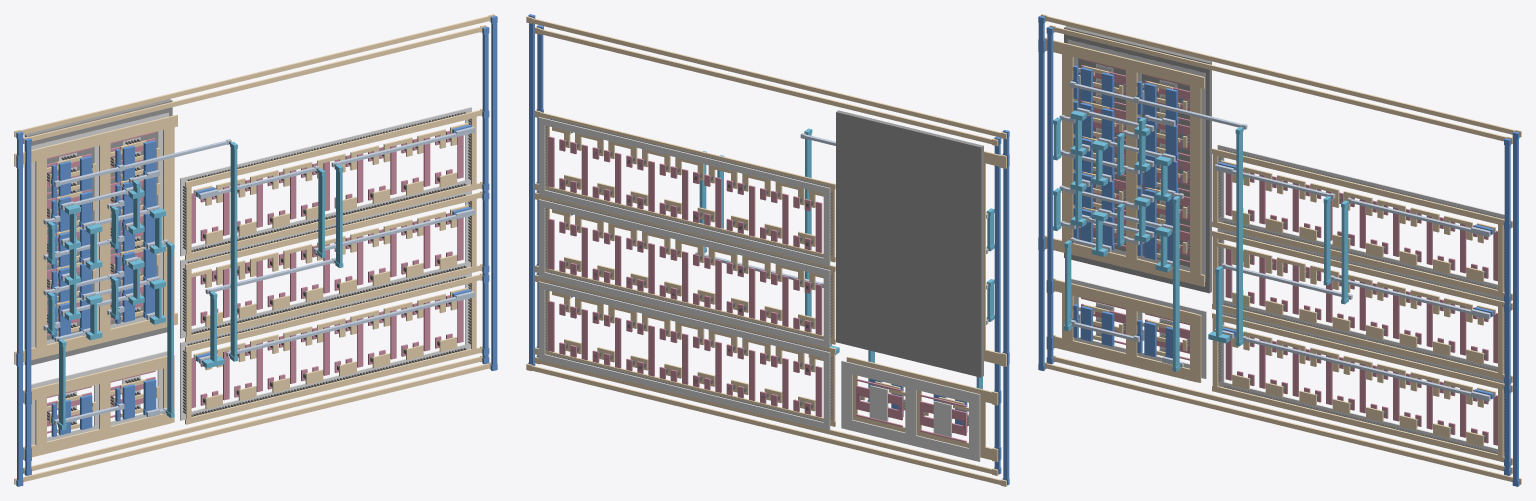
The model's file is single_stage_OTA_complete.gds.gltf.
The picture shows the model from 3 angles, left to right: view 1: azimuth 30°, elevation 25°; view 2: azimuth 150°, elevation 25°; view 3: azimuth 330°, elevation 25°; orthographic projection.
Parts seen in each view (by area): view 1: OTA_li1, LELOTR_RPPO16_li1 (×3), LELOTR_RES16_poly (×3), LELOTR_RES16_li1 (×3), OTA_met3, OTA_met1, OTA_met2, LELOATR_PCH_4C5F0_met1 (×10), LELOATR_PCH_4C5F0_li1 (×9), LELOTR_RPPO16_diff (×3), LELOTR_RPPO16_licon (×3), LELOATR_NCH_4C5F0_met1 (×2) (+6 smaller); view 2: LELOATR_PCH_4C5F0_nwell (×10), LELOTR_RES16_poly (×3), LELOTR_RPPO16_diff (×3), OTA_li1, LELOTR_RES16_li1 (×3), OTA_met1, LELOTR_RPPO16_li1 (×3), LELOATR_PCH_4CTAPTOP_nwell (×2), LELOTR_RPPO16_licon (×3), LELOATR_PCH_4CTAPBOT_nwell (×2), LELOATR_NCH_4C5F0_diff (×2), OTA_met3 (+5 smaller); view 3: OTA_li1, LELOTR_RES16_poly (×3), LELOTR_RES16_li1 (×3), OTA_met3, LELOTR_RPPO16_li1 (×3), OTA_met1, OTA_met2, LELOATR_PCH_4C5F0_li1 (×10), LELOATR_PCH_4C5F0_met1 (×10), LELOTR_RPPO16_diff (×3), LELOTR_RPPO16_licon (×3), LELOATR_NCH_4CTAPBOT_li1 (×2) (+8 smaller).
Part boxes in pixels (x1=…): OTA_li1: x1=14, y1=14, x2=494, y2=484; LELOTR_RPPO16_li1 (×3): x1=186, y1=112, x2=476, y2=423; LELOTR_RES16_poly (×3): x1=191, y1=130, x2=463, y2=407; LELOTR_RES16_li1 (×3): x1=195, y1=125, x2=467, y2=409; OTA_met3: x1=47, y1=142, x2=343, y2=430; OTA_met1: x1=16, y1=15, x2=497, y2=486; OTA_met2: x1=43, y1=127, x2=474, y2=425; LELOATR_PCH_4C5F0_met1 (×10): x1=51, y1=140, x2=156, y2=339; LELOATR_PCH_4C5F0_li1 (×9): x1=35, y1=132, x2=174, y2=344; LELOTR_RPPO16_diff (×3): x1=180, y1=107, x2=471, y2=420; LELOTR_RPPO16_licon (×3): x1=183, y1=112, x2=470, y2=416; LELOATR_NCH_4C5F0_met1 (×2): x1=51, y1=379, x2=156, y2=436; LELOATR_PCH_4C5F0_nwell (×10): x1=836, y1=133, x2=983, y2=355; LELOTR_RES16_poly (×3): x1=548, y1=136, x2=822, y2=417; LELOTR_RPPO16_diff (×3): x1=538, y1=117, x2=830, y2=430; OTA_li1: x1=526, y1=16, x2=1006, y2=486; LELOTR_RES16_li1 (×3): x1=552, y1=127, x2=822, y2=411; OTA_met1: x1=528, y1=14, x2=1009, y2=485; LELOTR_RPPO16_li1 (×3): x1=544, y1=115, x2=835, y2=425; LELOATR_PCH_4CTAPTOP_nwell (×2): x1=836, y1=110, x2=983, y2=179; LELOTR_RPPO16_licon (×3): x1=545, y1=118, x2=832, y2=421; LELOATR_PCH_4CTAPBOT_nwell (×2): x1=836, y1=321, x2=983, y2=377; LELOATR_NCH_4C5F0_diff (×2): x1=841, y1=375, x2=980, y2=447; OTA_met3: x1=699, y1=128, x2=994, y2=401; OTA_li1: x1=1041, y1=14, x2=1521, y2=484; LELOTR_RES16_poly (×3): x1=1225, y1=169, x2=1497, y2=445; LELOTR_RES16_li1 (×3): x1=1227, y1=166, x2=1494, y2=446; OTA_met3: x1=1053, y1=110, x2=1348, y2=371; LELOTR_RPPO16_li1 (×3): x1=1212, y1=154, x2=1503, y2=461; OTA_met1: x1=1038, y1=15, x2=1519, y2=486; OTA_met2: x1=1059, y1=81, x2=1490, y2=401; LELOATR_PCH_4C5F0_li1 (×10): x1=1062, y1=58, x2=1201, y2=271; LELOATR_PCH_4C5F0_met1 (×10): x1=1073, y1=65, x2=1177, y2=261; LELOTR_RPPO16_diff (×3): x1=1217, y1=144, x2=1504, y2=456; LELOTR_RPPO16_licon (×3): x1=1218, y1=149, x2=1504, y2=454; LELOATR_NCH_4CTAPBOT_li1 (×2): x1=1062, y1=331, x2=1201, y2=382.
Size of the model in its own units: 56.79 by 39.94 by 4.13.
